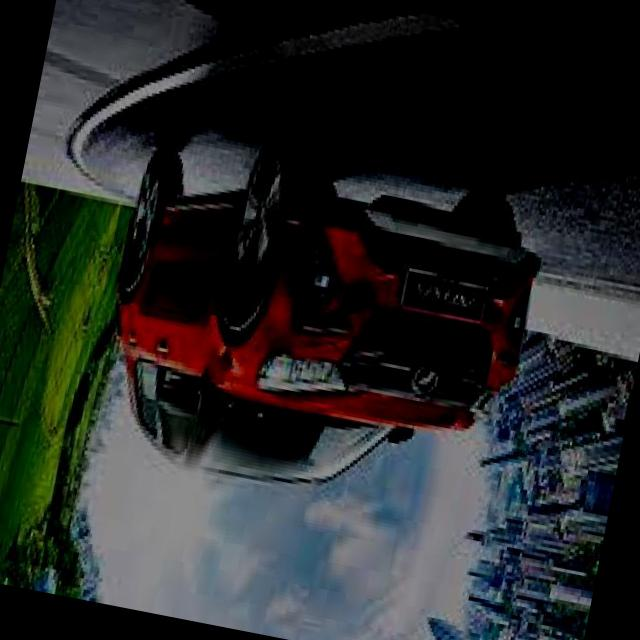PeroduaAtiva: (81, 118, 556, 532)
